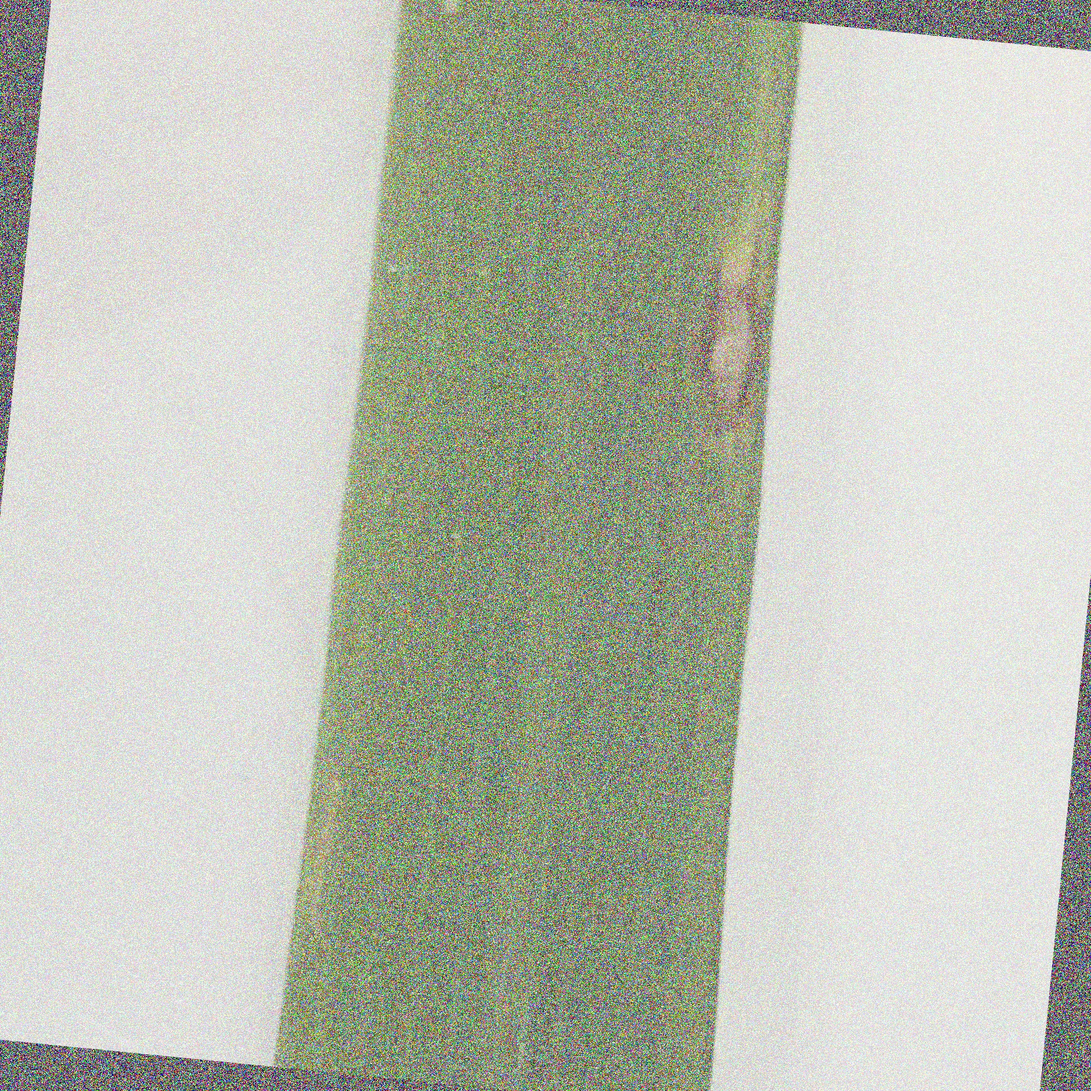Brown_Spot: (659, 176, 815, 489)
